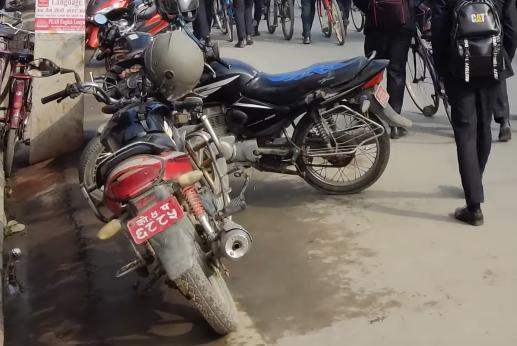bike: (22, 53, 254, 338), (156, 43, 394, 200)
